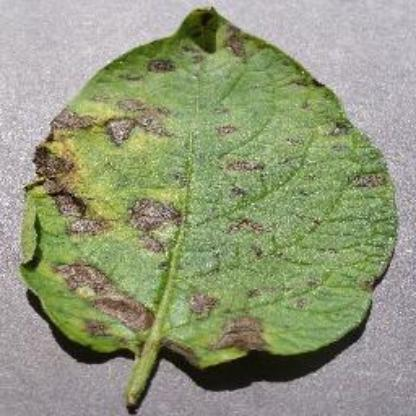Early-Blight: (17, 5, 414, 414)
